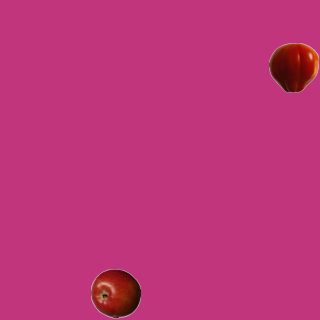Apple Braeburn: (90, 268, 140, 318)
Tomato 1: (268, 42, 318, 92)
